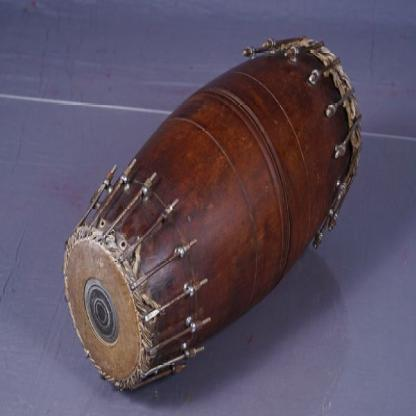Mridangam: (57, 34, 367, 385)
